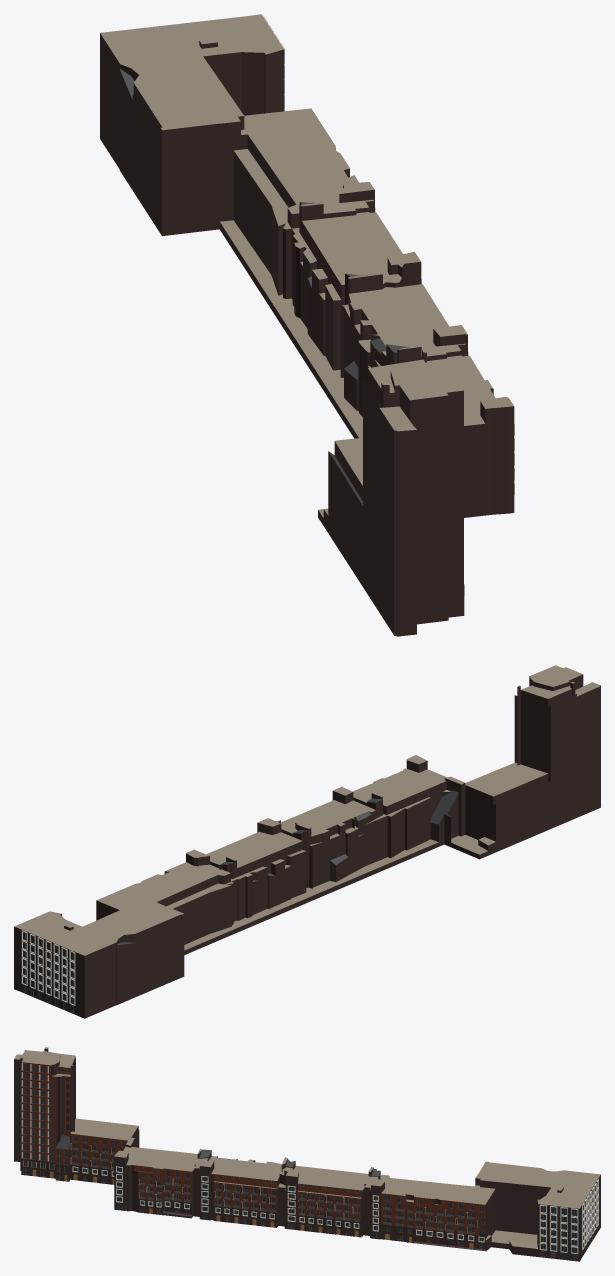
The model's file is recipe-large-leeuwendalersweg-400-732-080532.glb.
3 renders of one model, top to bottom at view 1: azimuth 30°, elevation 25°; view 2: azimuth 150°, elevation 25°; view 3: azimuth 270°, elevation 25°, orthographic. The views are drawn at different scales.
Parts seen in each view (by area): view 1: leeuwendalersweg-400-732-080532; view 2: leeuwendalersweg-400-732-080532; view 3: leeuwendalersweg-400-732-080532.
Part boxes in pixels (bbox=[...]): leeuwendalersweg-400-732-080532: bbox=[100, 14, 514, 636]; leeuwendalersweg-400-732-080532: bbox=[14, 665, 600, 1018]; leeuwendalersweg-400-732-080532: bbox=[14, 1047, 600, 1261].
Size of the model in its own units: 95.14 by 48.86 by 225.
